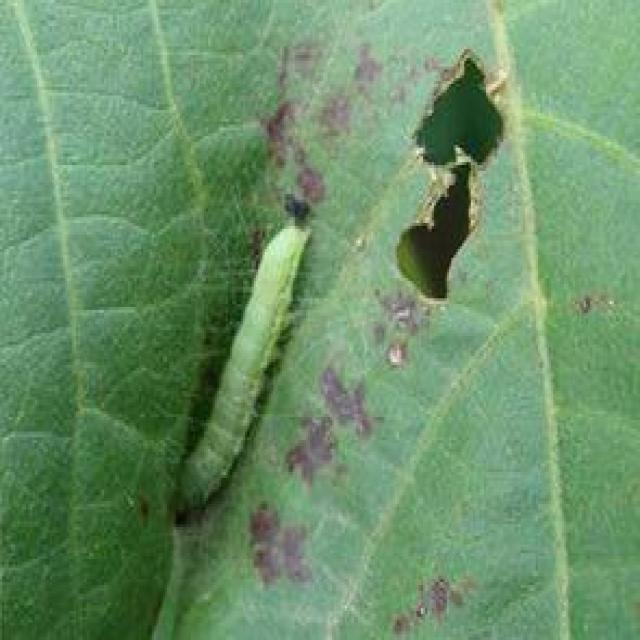BeetArmyWorm-Larva-: (159, 222, 316, 517)
